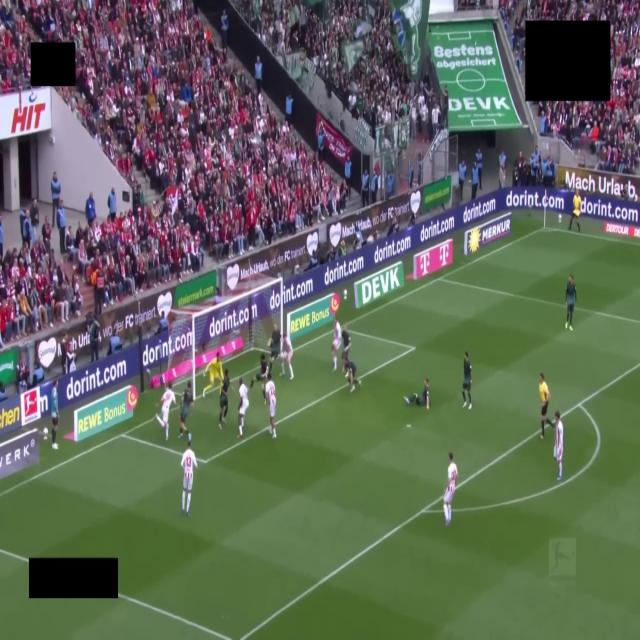player: (181, 440, 197, 515), (156, 383, 176, 440), (444, 453, 457, 525), (250, 353, 268, 404), (203, 352, 223, 397), (179, 381, 193, 440), (405, 378, 429, 409), (554, 411, 564, 481), (343, 354, 361, 392), (219, 370, 230, 430), (266, 373, 276, 438), (280, 333, 293, 380), (238, 378, 248, 438), (51, 378, 59, 449), (269, 326, 281, 372), (566, 275, 576, 330), (462, 352, 471, 409), (341, 325, 351, 373), (332, 317, 341, 370)
referee: (539, 373, 553, 439)
